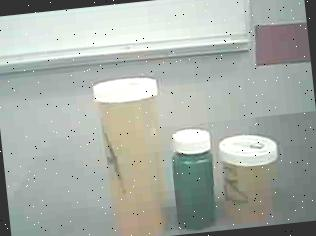Bottle A: (86, 70, 175, 236)
Bottle B: (217, 128, 289, 230)
Bottle C: (167, 123, 221, 234)
